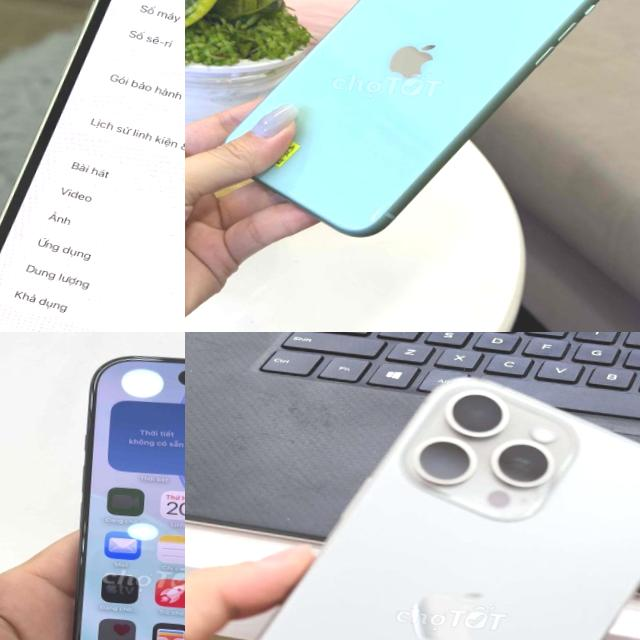gen_11: (210, 0, 626, 264)
gen_14: (0, 0, 185, 332)
gen_16: (257, 377, 640, 640), (69, 356, 185, 640)
